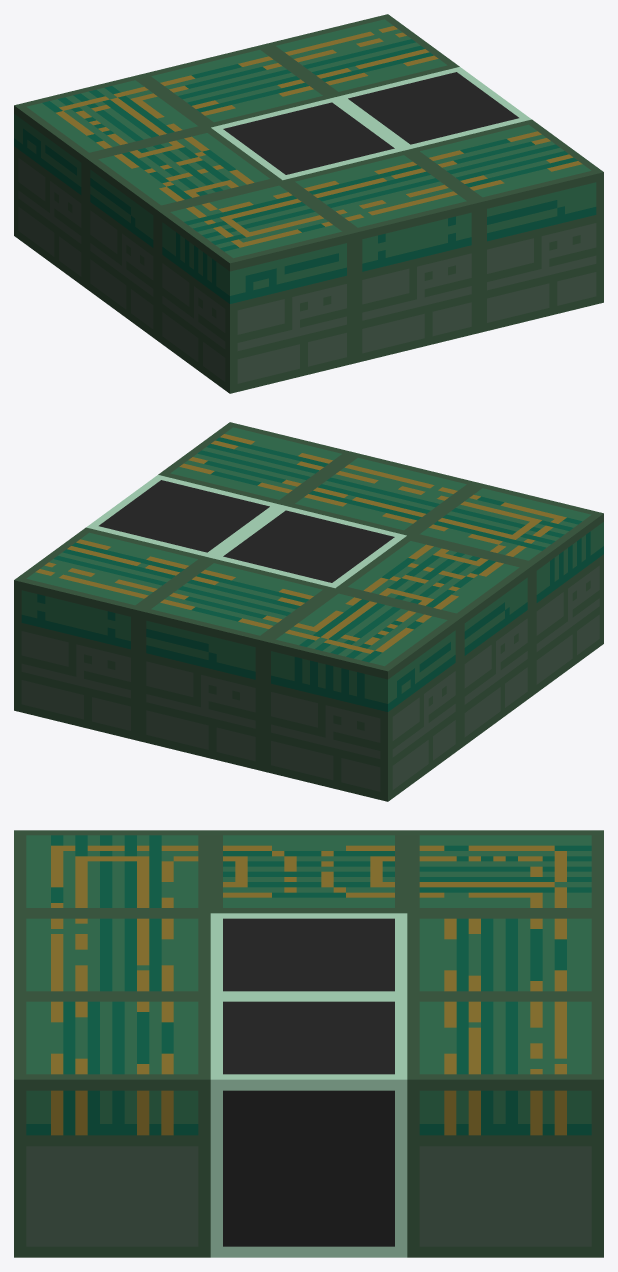
Rendered from m_tiles_8_3x3.fbx.
The picture shows the model from 3 angles, top to bottom: view 1: azimuth 30°, elevation 25°; view 2: azimuth 150°, elevation 25°; view 3: azimuth 270°, elevation 25°; orthographic projection. The views are drawn at different scales.
Visible parts, largest first — view 1: m_tiles_8_3x3; view 2: m_tiles_8_3x3; view 3: m_tiles_8_3x3.
Part boxes in pixels (<box>): m_tiles_8_3x3: <box>14,14,603,393</box>; m_tiles_8_3x3: <box>14,422,603,801</box>; m_tiles_8_3x3: <box>14,830,603,1257</box>.
Size of the model in its own units: 4.8 by 1.6 by 4.8.
Materials: 1 (1 with a texture image).
